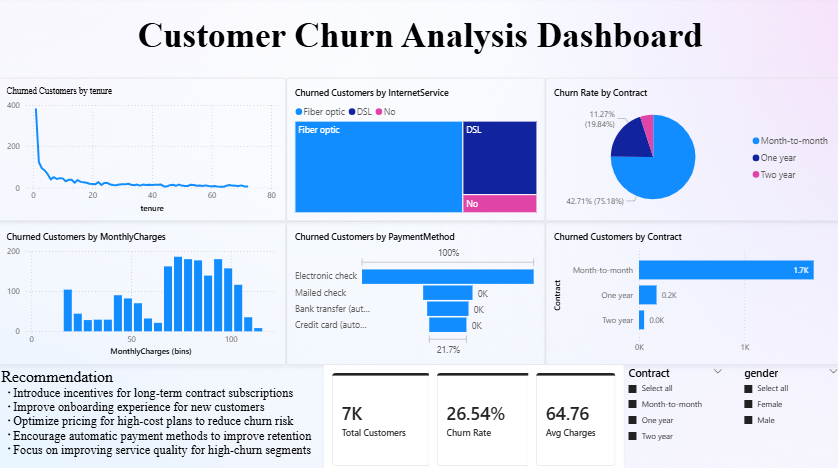

What the dashboard file says about the page in this screenshot:
{"tool":"powerbi","page":{"name":"Overview","canvas":[1280,720],"ordinal":0},"visuals":[{"type":"clusteredBarChart","fields":{"Category":["WA_Fn-UseC_-Telco-Customer-Churn.Contract"],"Y":["WA_Fn-UseC_-Telco-Customer-Churn.Churned Customers"]},"box":[830.2,335.7,450.3,217.8],"z":0},{"type":"funnel","fields":{"Category":["WA_Fn-UseC_-Telco-Customer-Churn.PaymentMethod"],"Y":["WA_Fn-UseC_-Telco-Customer-Churn.Churned Customers"]},"box":[437.2,335.7,393,217.8],"z":1000},{"type":"slicer","fields":{"Values":["WA_Fn-UseC_-Telco-Customer-Churn.gender"]},"box":[1123.3,553.5,157.2,165.4],"z":2000},{"type":"cardVisual","fields":{"Data":["WA_Fn-UseC_-Telco-Customer-Churn.Total Customers"]},"box":[494.5,553.5,173.6,165.4],"z":3000},{"type":"cardVisual","fields":{"Data":["WA_Fn-UseC_-Telco-Customer-Churn.Churn Rate"]},"box":[653.3,553.5,176.8,165.4],"z":4000},{"type":"cardVisual","fields":{"Data":["WA_Fn-UseC_-Telco-Customer-Churn.Avg Charges"]},"box":[804,553.5,144.1,165.4],"z":5000},{"type":"treemap","fields":{"Group":["WA_Fn-UseC_-Telco-Customer-Churn.InternetService"],"Values":["WA_Fn-UseC_-Telco-Customer-Churn.Churned Customers"]},"box":[437.2,117.9,393,217.8],"z":6000},{"type":"slicer","fields":{"Values":["WA_Fn-UseC_-Telco-Customer-Churn.Contract"]},"box":[948.1,553.5,157.2,165.4],"z":7000},{"type":"pieChart","fields":{"Category":["WA_Fn-UseC_-Telco-Customer-Churn.Contract"],"Y":["WA_Fn-UseC_-Telco-Customer-Churn.Churn Rate"]},"box":[830.2,117.9,450.3,217.8],"z":8000},{"type":"lineChart","fields":{"Category":["WA_Fn-UseC_-Telco-Customer-Churn.tenure"],"Y":["WA_Fn-UseC_-Telco-Customer-Churn.Churned Customers"]},"box":[0,117.9,437.2,217.8],"z":9000},{"type":"clusteredColumnChart","title":"Churned Customers by MonthlyCharges ","fields":{"Category":["WA_Fn-UseC_-Telco-Customer-Churn.MonthlyCharges (bins)"],"Y":["WA_Fn-UseC_-Telco-Customer-Churn.Churned Customers"]},"box":[0,335.7,437.2,217.8],"z":10000},{"type":"textbox","box":[0,553.5,494.5,165.4],"z":11000},{"type":"textbox","box":[0,0,1280.5,117.9],"z":12000}]}

Visuals, with their boxes in screenshot pixels (x1, y1, x2, y2), scaled from the page's 1280x720 canvas onto the 838x468 screenshot:
clusteredBarChart - WA_Fn-UseC_-Telco-Customer-Churn.Contract x WA_Fn-UseC_-Telco-Customer-Churn.Churned Customers: box=[544, 218, 837, 360]
funnel - WA_Fn-UseC_-Telco-Customer-Churn.PaymentMethod x WA_Fn-UseC_-Telco-Customer-Churn.Churned Customers: box=[286, 218, 544, 360]
slicer - WA_Fn-UseC_-Telco-Customer-Churn.gender: box=[735, 360, 837, 467]
cardVisual - WA_Fn-UseC_-Telco-Customer-Churn.Total Customers: box=[324, 360, 437, 467]
cardVisual - WA_Fn-UseC_-Telco-Customer-Churn.Churn Rate: box=[428, 360, 543, 467]
cardVisual - WA_Fn-UseC_-Telco-Customer-Churn.Avg Charges: box=[526, 360, 621, 467]
treemap - WA_Fn-UseC_-Telco-Customer-Churn.InternetService x WA_Fn-UseC_-Telco-Customer-Churn.Churned Customers: box=[286, 77, 544, 218]
slicer - WA_Fn-UseC_-Telco-Customer-Churn.Contract: box=[621, 360, 724, 467]
pieChart - WA_Fn-UseC_-Telco-Customer-Churn.Contract x WA_Fn-UseC_-Telco-Customer-Churn.Churn Rate: box=[544, 77, 837, 218]
lineChart - WA_Fn-UseC_-Telco-Customer-Churn.tenure x WA_Fn-UseC_-Telco-Customer-Churn.Churned Customers: box=[0, 77, 286, 218]
"Churned Customers by MonthlyCharges " clusteredColumnChart: box=[0, 218, 286, 360]
textbox: box=[0, 360, 324, 467]
textbox: box=[0, 0, 837, 77]
